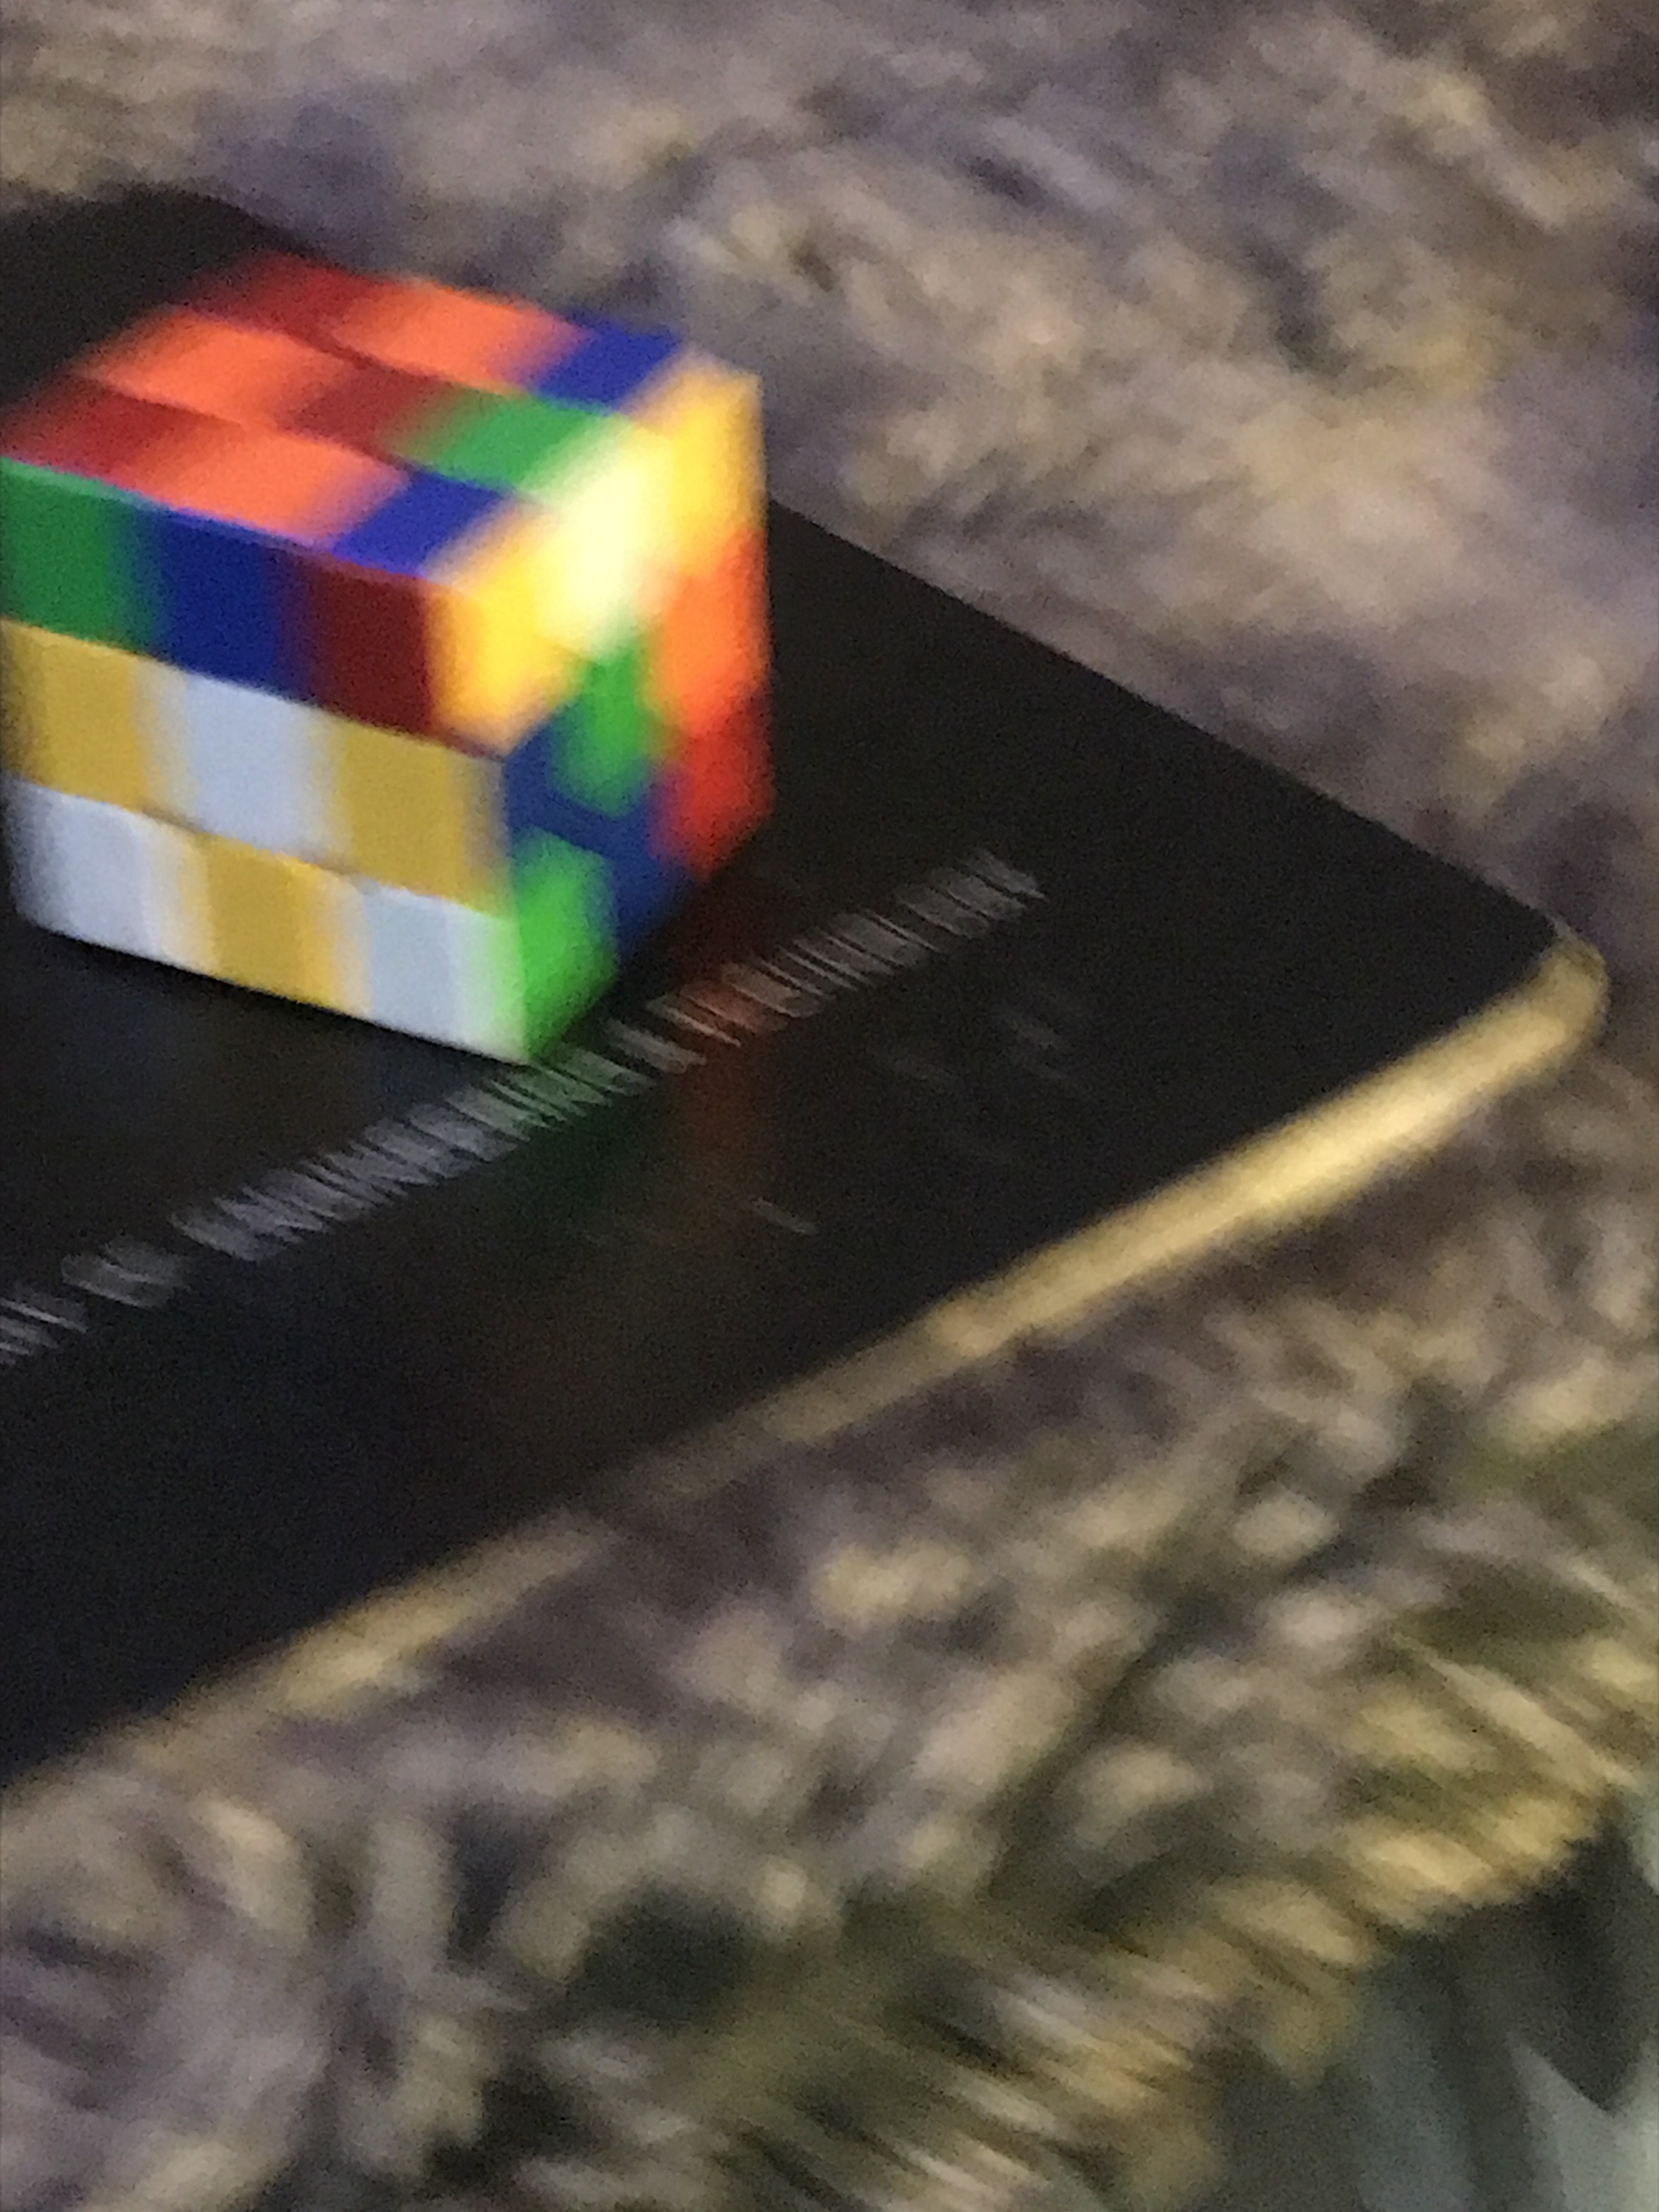rubiks: (21, 265, 775, 1066)
